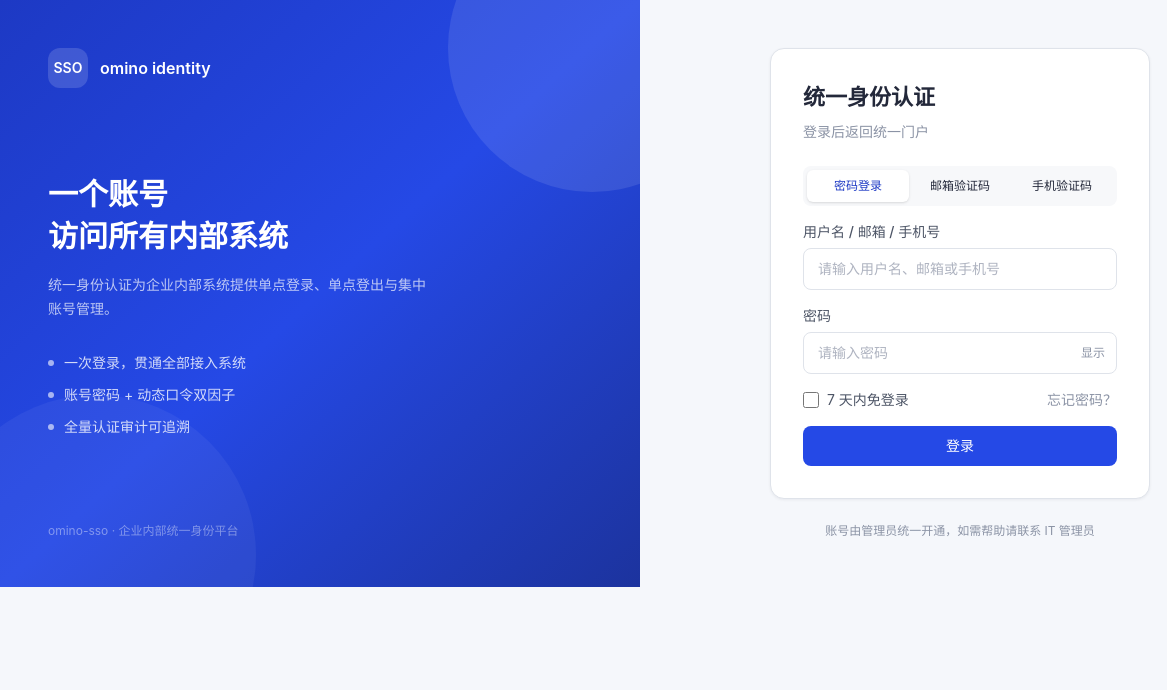
it: Login 登录方式切换 › 切换到验证码登录时拉取图形验证码并要求输入
This screenshot has width=1167, height=690.
Click the button "邮箱验证码" at (960, 186), box [909,170,1011,202]
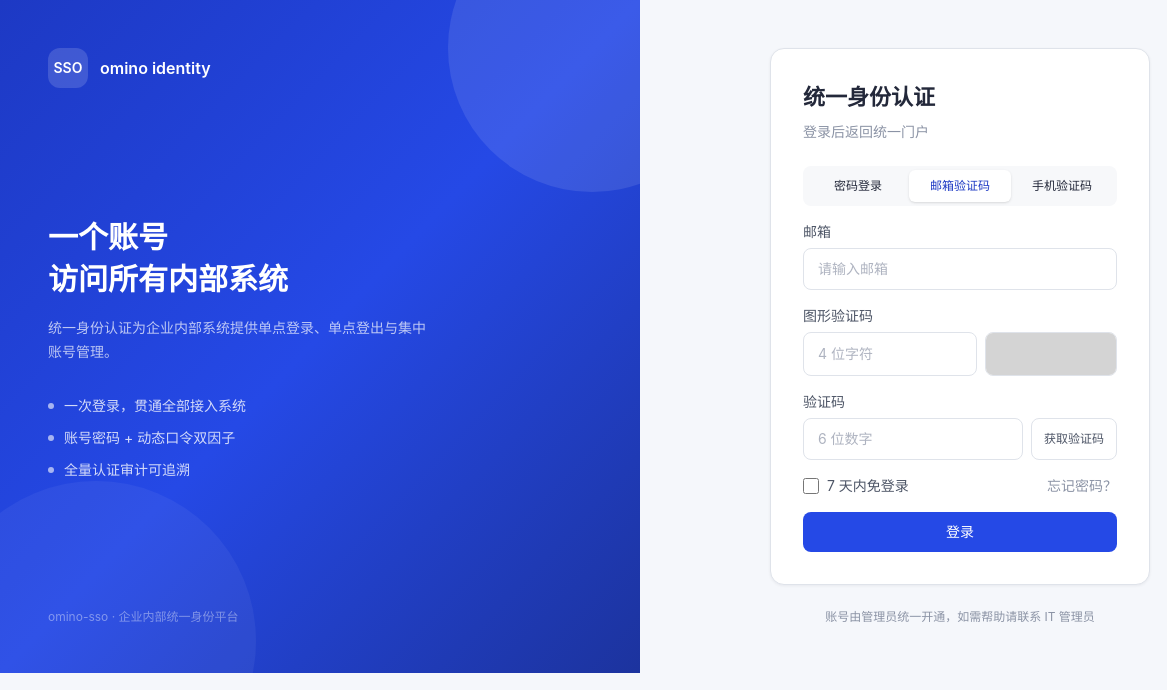
Expected: the field with id "login-captcha" is shown, [803,332,977,376]
